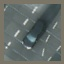car: (19, 21, 49, 50)
